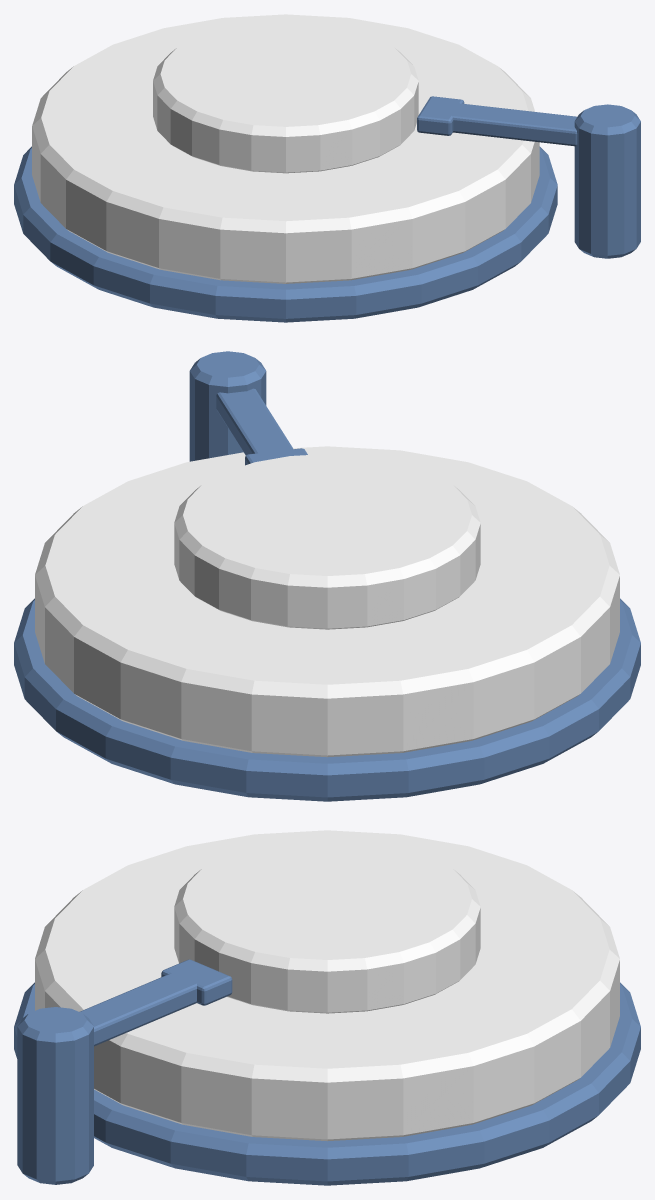
Rendered from disk.glb.
3 renders of one model, top to bottom at view 1: azimuth 30°, elevation 25°; view 2: azimuth 150°, elevation 25°; view 3: azimuth 270°, elevation 25°, orthographic. The views are drawn at different scales.
Visible parts, largest first — view 1: platter, hub, tray, pivot, arm, head; view 2: platter, hub, tray, pivot, arm; view 3: platter, hub, tray, pivot, arm, head.
Part boxes in pixels (x1,y1,x2,y2): platter: [32, 14, 539, 283]; hub: [153, 21, 418, 173]; tray: [14, 146, 557, 322]; pivot: [574, 104, 640, 258]; arm: [431, 101, 577, 146]; head: [417, 96, 464, 135]; platter: [35, 446, 619, 757]; hub: [174, 454, 480, 629]; tray: [14, 598, 640, 801]; pivot: [189, 351, 266, 461]; arm: [216, 388, 295, 460]; platter: [35, 830, 619, 1141]; hub: [174, 838, 480, 1013]; tray: [14, 982, 640, 1185]; pivot: [17, 1007, 93, 1184]; arm: [79, 966, 212, 1046]; head: [161, 959, 232, 1005].
Size of the model in its own units: 1.8 by 0.5 by 1.8.
